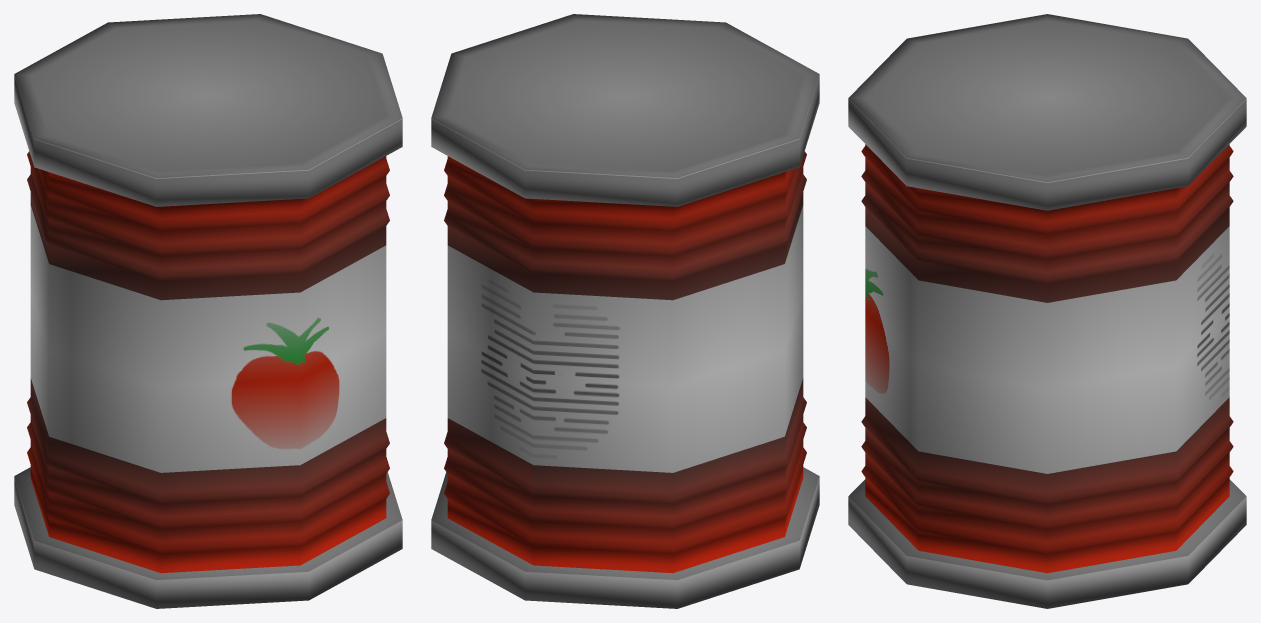
File: Lata.fbx
The picture shows the model from 3 angles, left to right: view 1: azimuth 30°, elevation 25°; view 2: azimuth 150°, elevation 25°; view 3: azimuth 270°, elevation 25°; orthographic projection.
Parts seen in each view (by area): view 1: Lata; view 2: Lata; view 3: Lata.
Part boxes in pixels (x1,y1,x2,y2): Lata: (14,14,402,608); Lata: (431,14,819,608); Lata: (848,14,1246,608).
Size of the model in its own units: 127 by 150 by 127.
